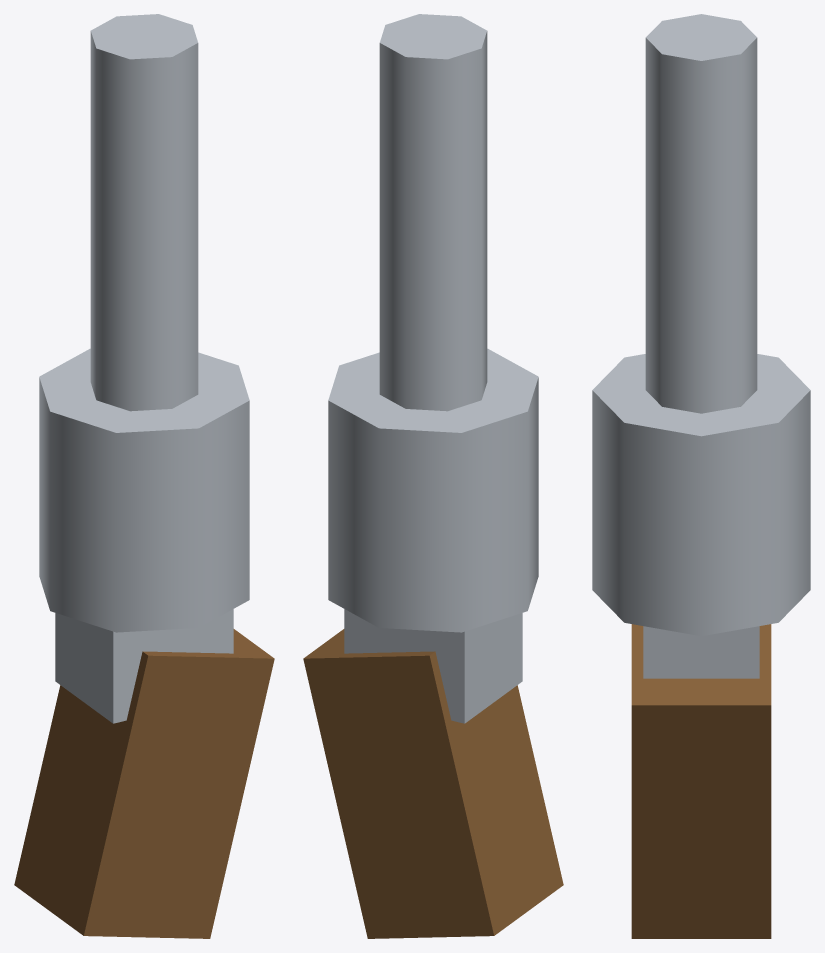
The model's file is western-revolver.glb.
3 views of the same model, side by side, from view 1: azimuth 30°, elevation 25°; view 2: azimuth 150°, elevation 25°; view 3: azimuth 270°, elevation 25° (orthographic).
Parts seen in each view (by area): view 1: Grip, Cylinder, Barrel, Frame; view 2: Grip, Cylinder, Barrel, Frame; view 3: Cylinder, Barrel, Grip, Frame.
Boxes of the visible parts, x1,y1,x2,y2 form: Grip: [14, 629, 274, 938]; Cylinder: [39, 348, 249, 632]; Barrel: [90, 14, 198, 411]; Frame: [55, 609, 233, 723]; Grip: [303, 629, 563, 938]; Cylinder: [328, 348, 538, 632]; Barrel: [379, 14, 487, 411]; Frame: [344, 609, 522, 723]; Cylinder: [592, 354, 810, 636]; Barrel: [645, 14, 757, 413]; Grip: [631, 624, 771, 938]; Frame: [643, 626, 759, 678].
Size of the model in its own units: 0.0951 by 0.421 by 0.094.
